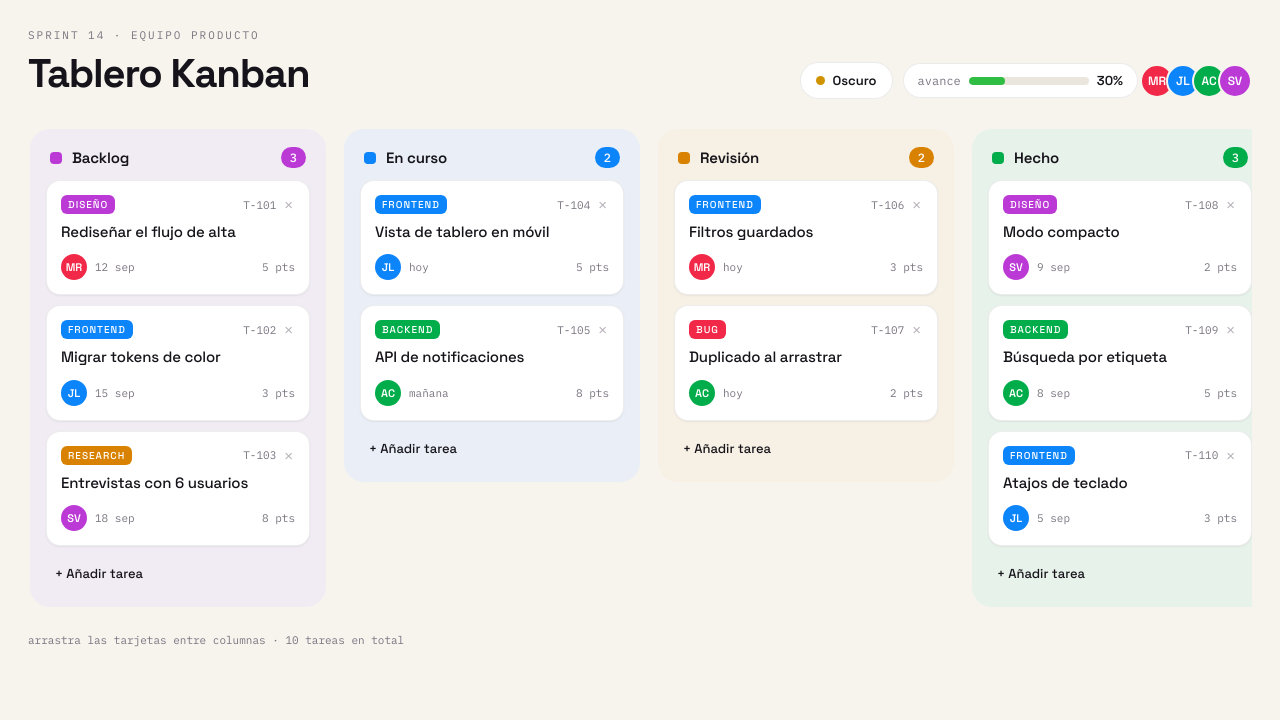
it: añadir tarjeta a una columna › crea una tarjeta con texto no vacío al confirmar
Click the button "+ Añadir tarea" below "18 sep" at (99, 573), box x1=46 y1=556 x2=310 y2=591
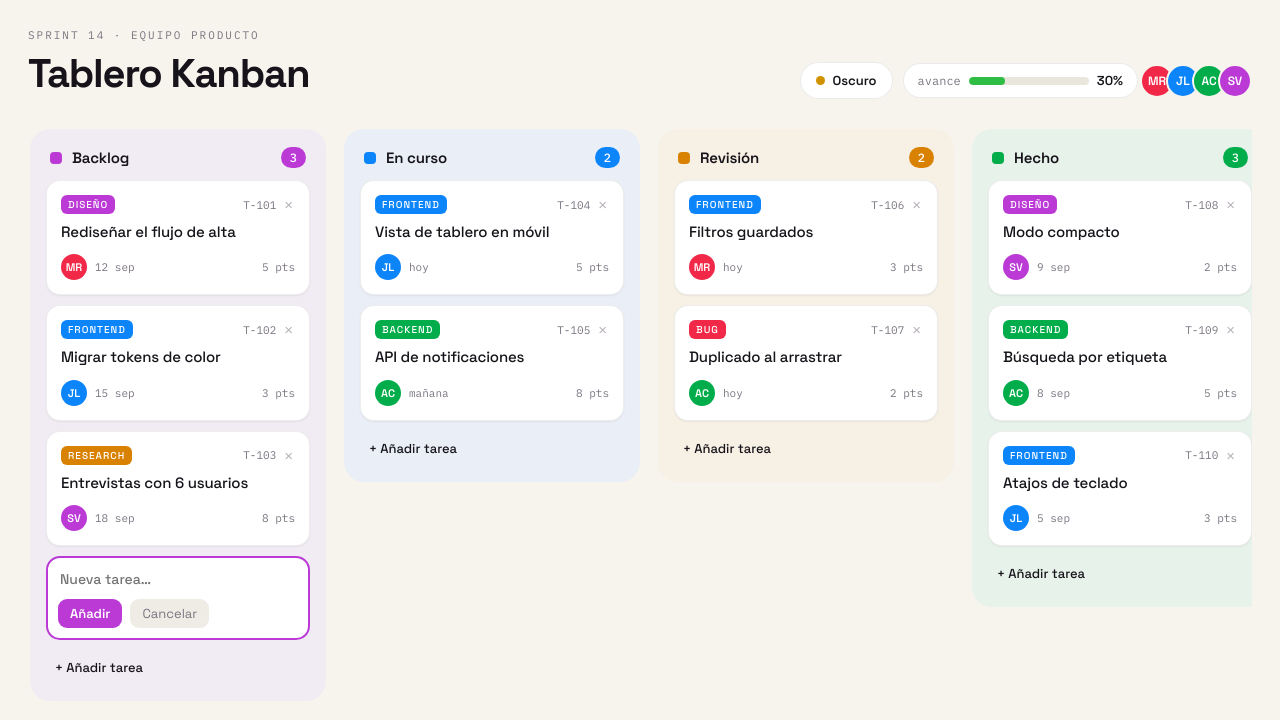
Type "Nueva tarea de prueba" into the field with placeholder "Nueva tarea…" at (178, 579), box x1=58 y1=569 x2=298 y2=589
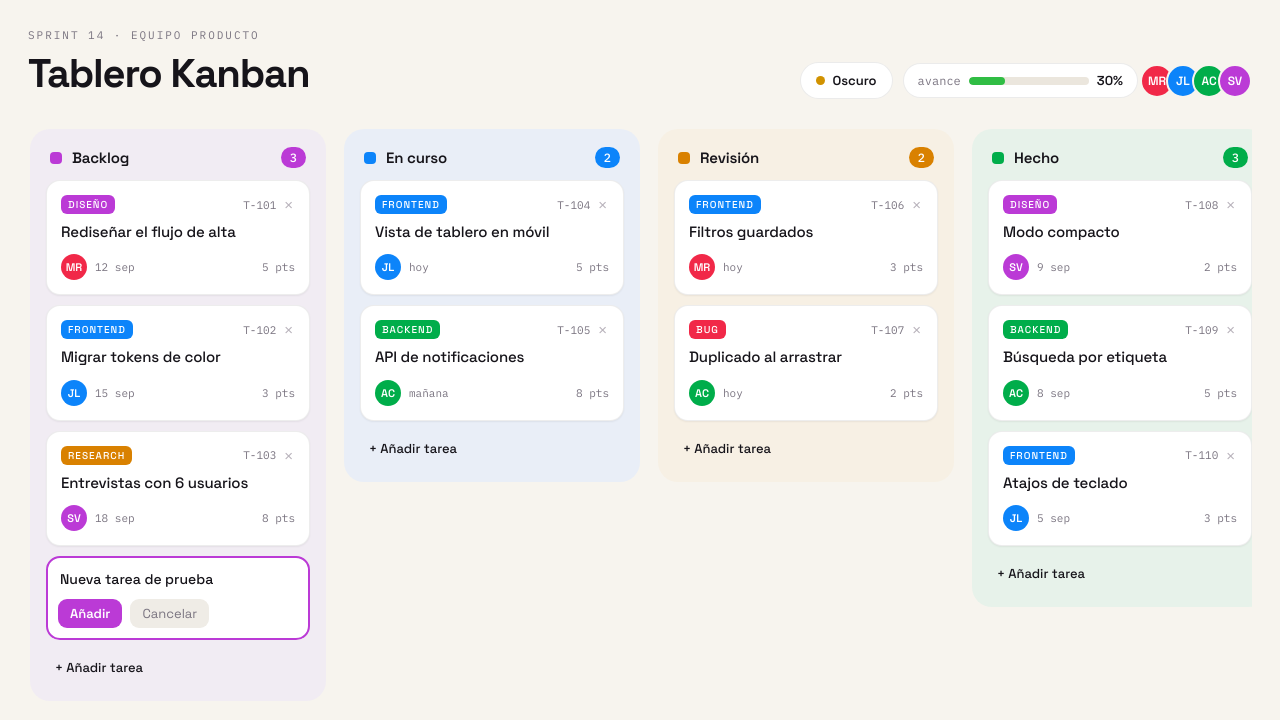
Click the button "Añadir" at (90, 613), box x1=58 y1=599 x2=122 y2=628
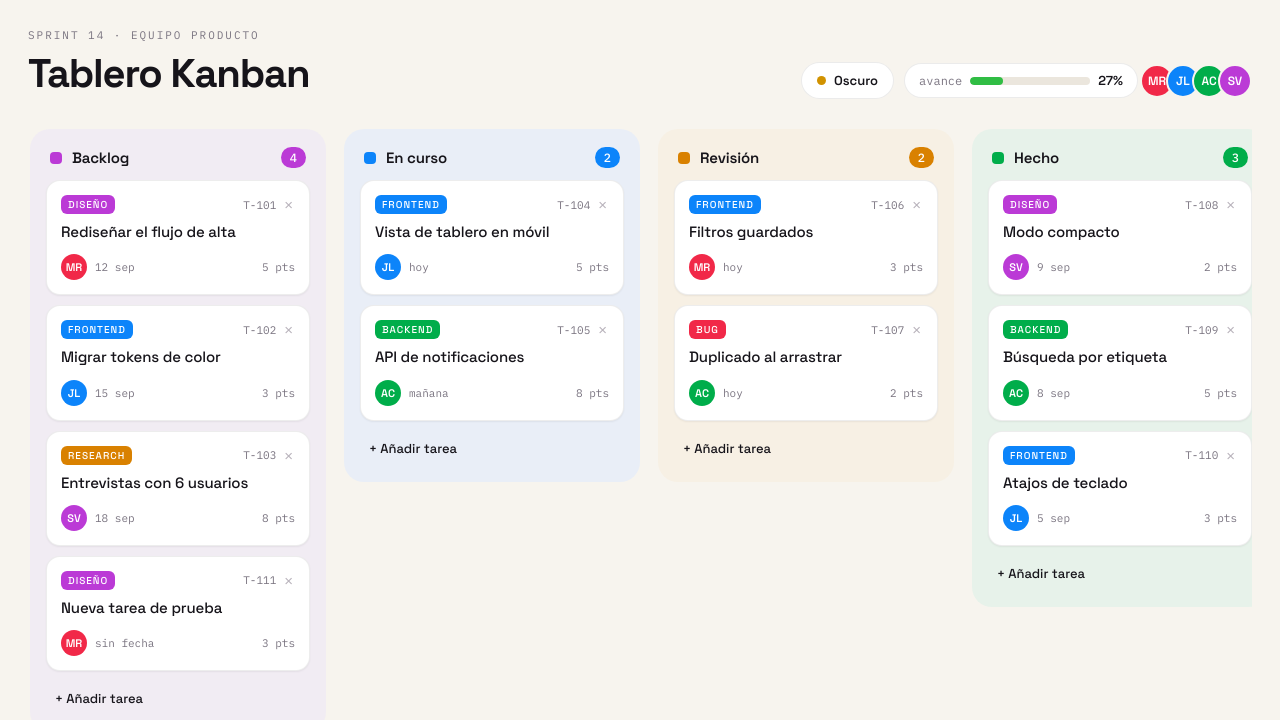
Result: the text with test id "column-count-backlog" reads "4" at x1=290 y1=150 x2=297 y2=165
